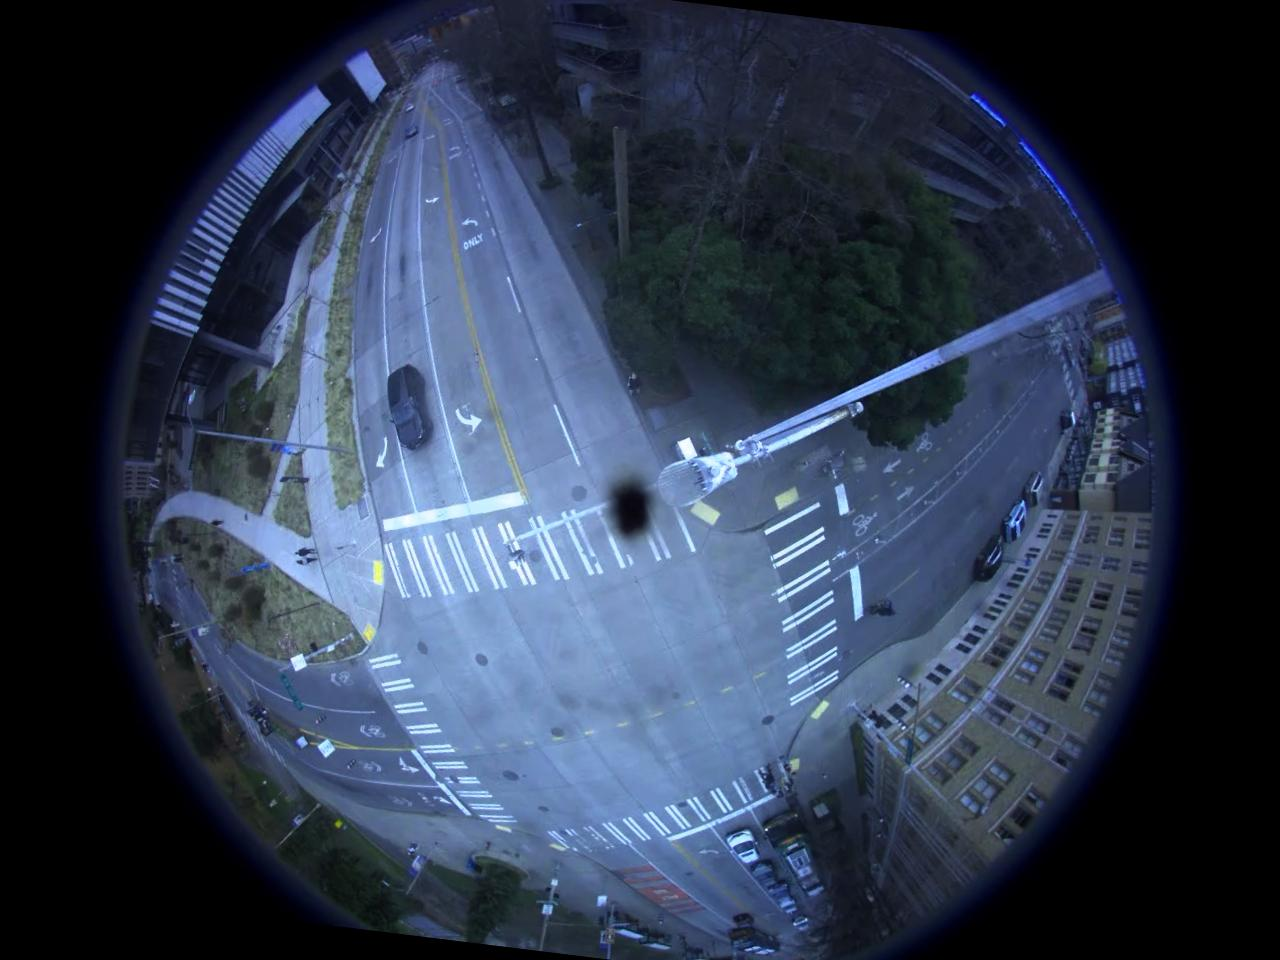bicycle: (860, 590, 904, 622)
bus: (759, 808, 834, 899), (726, 924, 780, 958)
car: (379, 361, 433, 451), (969, 531, 1006, 584), (723, 826, 758, 866), (998, 500, 1027, 546), (1022, 468, 1046, 509), (748, 858, 778, 886), (764, 879, 790, 902), (728, 911, 758, 929), (776, 896, 798, 914)
person: (860, 702, 889, 728), (753, 764, 780, 786), (761, 776, 784, 799), (624, 372, 645, 397), (292, 544, 314, 558), (780, 774, 795, 793), (294, 554, 314, 568), (781, 756, 795, 775), (208, 518, 224, 528)
